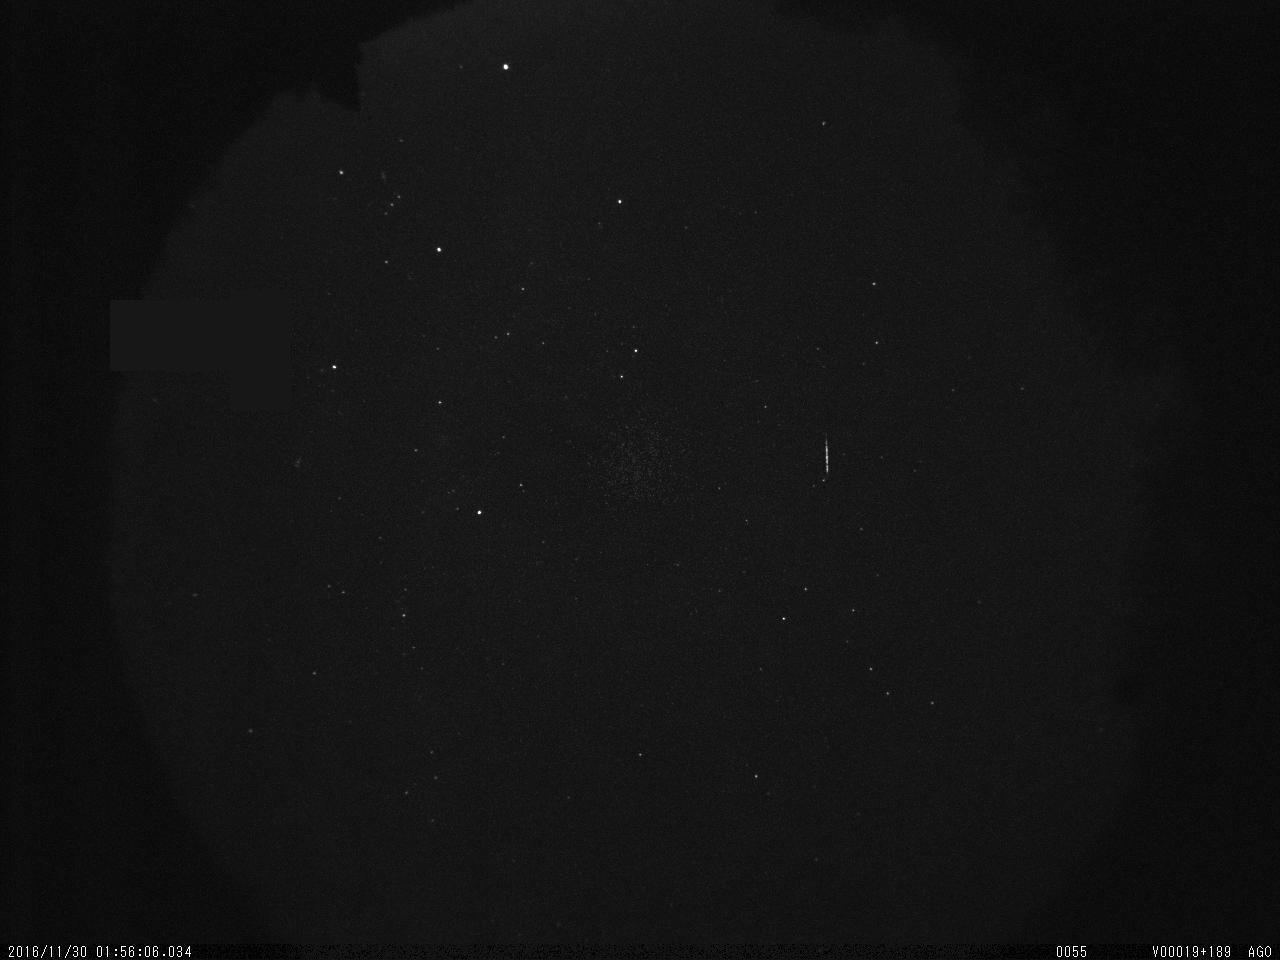Meteor: (820, 428, 834, 480)
